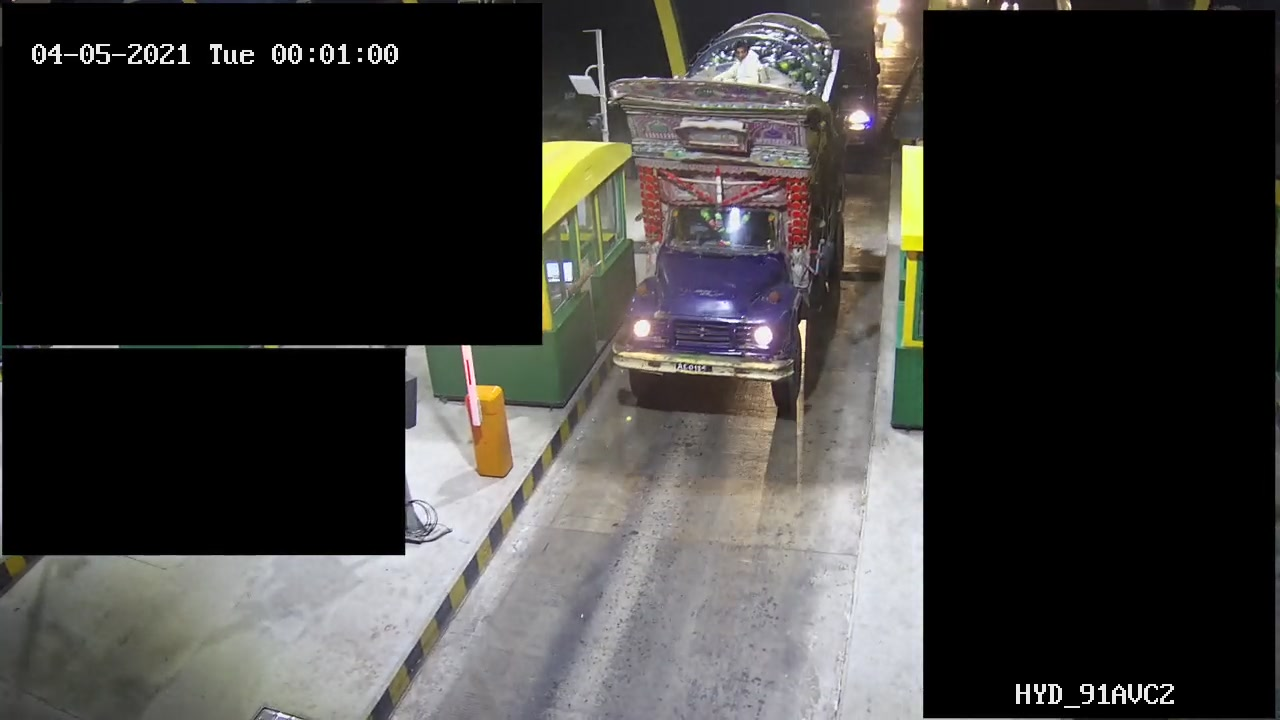F5: (609, 7, 845, 417)
